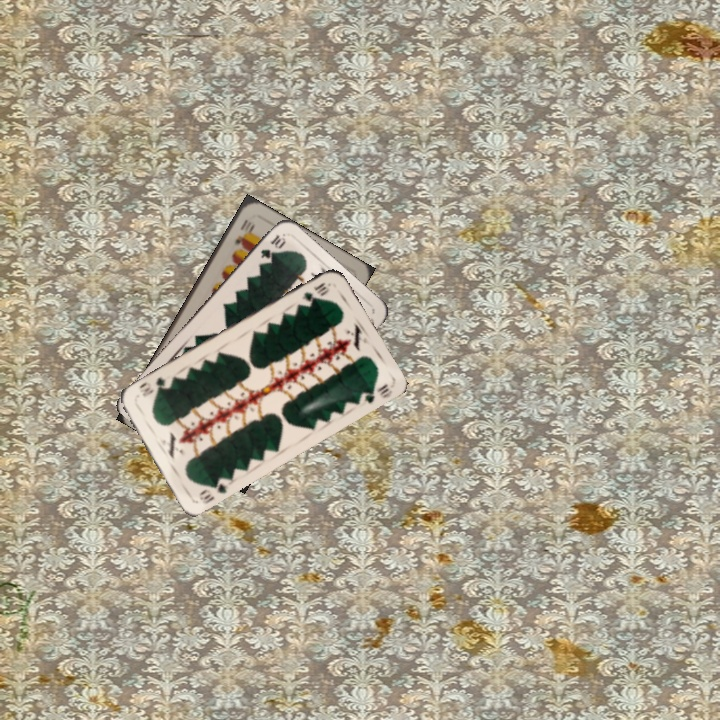E10: (230, 215, 256, 248)
G10: (195, 473, 229, 507), (256, 231, 288, 262), (298, 278, 332, 304)
